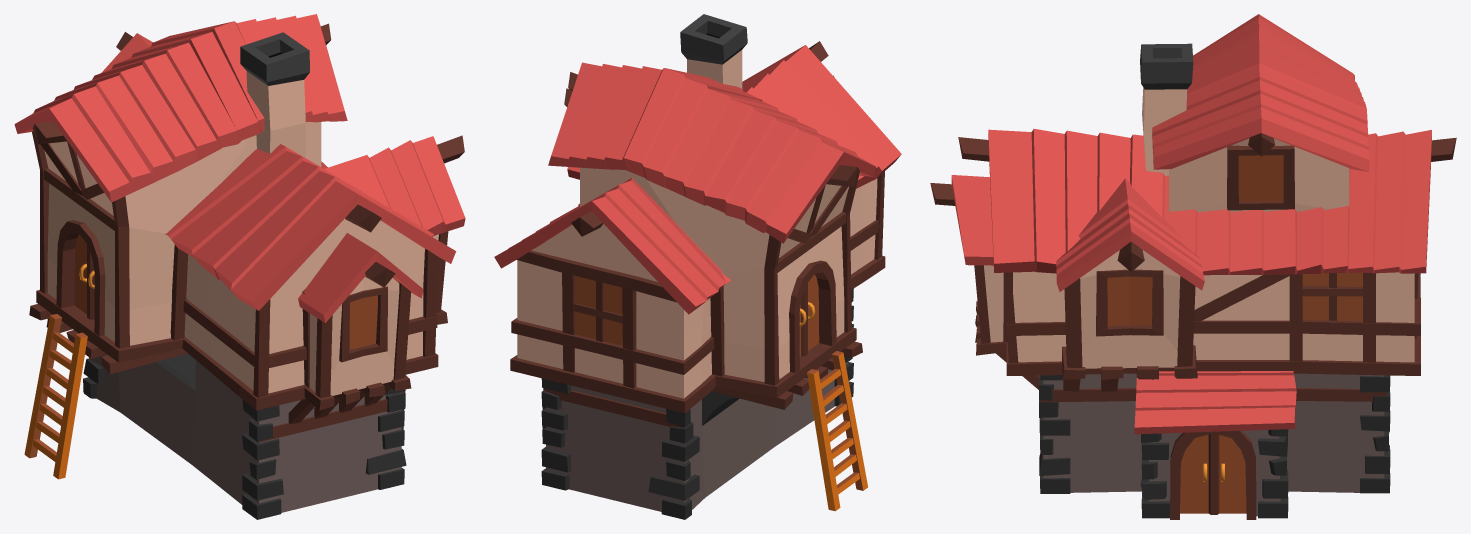
The model's file is House-Large01.fbx.
3 views of the same model, side by side, from view 1: azimuth 30°, elevation 25°; view 2: azimuth 150°, elevation 25°; view 3: azimuth 270°, elevation 25° (orthographic). The views are drawn at different scales.
Parts seen in each view (by area): view 1: Cube.029, Cube.049, Cube.028, Cube.035, Cube.034, Cube.037, Cube.038; view 2: Cube.029, Cube.049, Cube.028, Cube.035, Cube.034, Cube.037; view 3: Cube.029, Cube.049, Cube.028, Cube.034.
Boxes of the visible parts, left/top/right/bottom form: Cube.029: left=29, top=32, right=448, bottom=512; Cube.049: left=14, top=14, right=465, bottom=322; Cube.028: left=83, top=354, right=406, bottom=519; Cube.035: left=24, top=314, right=87, bottom=479; Cube.034: left=116, top=32, right=381, bottom=232; Cube.037: left=32, top=121, right=66, bottom=144; Cube.038: left=437, top=135, right=464, bottom=163; Cube.029: left=510, top=14, right=885, bottom=511; Cube.049: left=494, top=45, right=901, bottom=314; Cube.028: left=541, top=288, right=853, bottom=519; Cube.035: left=807, top=351, right=867, bottom=511; Cube.034: left=571, top=41, right=828, bottom=236; Cube.037: left=826, top=165, right=859, bottom=187; Cube.029: left=974, top=43, right=1420, bottom=519; Cube.049: left=951, top=14, right=1431, bottom=434; Cube.028: left=1038, top=375, right=1390, bottom=518; Cube.034: left=958, top=137, right=1456, bottom=161.
Size of the model in its own units: 142 by 152 by 177.
